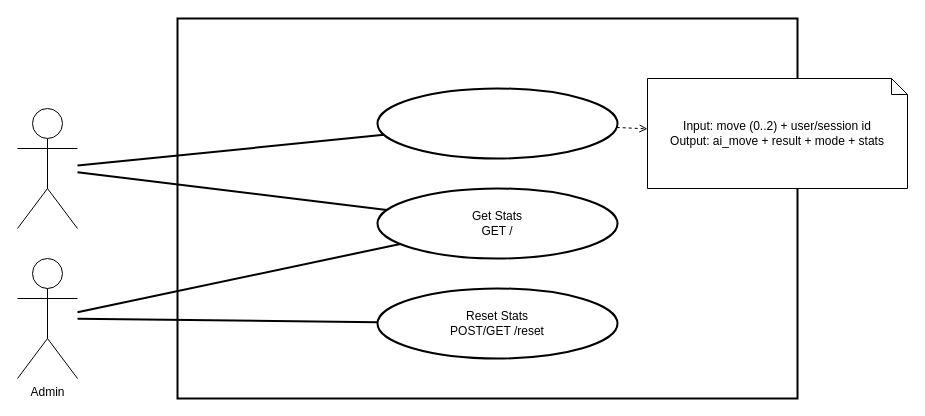
Some shapes in this 925 by 416 pixel diagram are drawn without their labels. Each missing label, with the centre of its shape:
Play Round POST /play: point (497, 123)
Player: point (47, 168)
